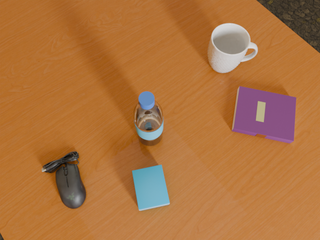book: (232, 86, 296, 143)
bottle: (134, 92, 163, 146)
box: (132, 165, 169, 211)
cup: (208, 23, 258, 73)
mouse: (42, 152, 86, 209)
